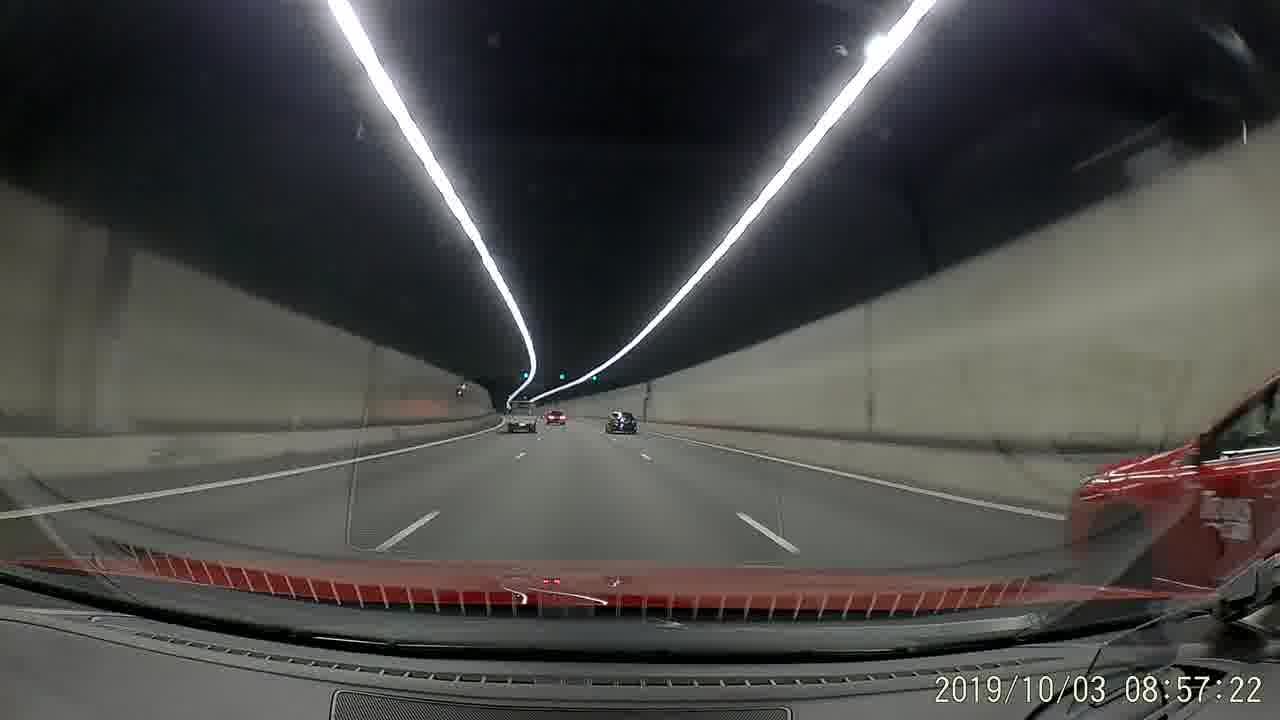car: (1062, 358, 1278, 579), (603, 409, 638, 436), (545, 407, 566, 427)
